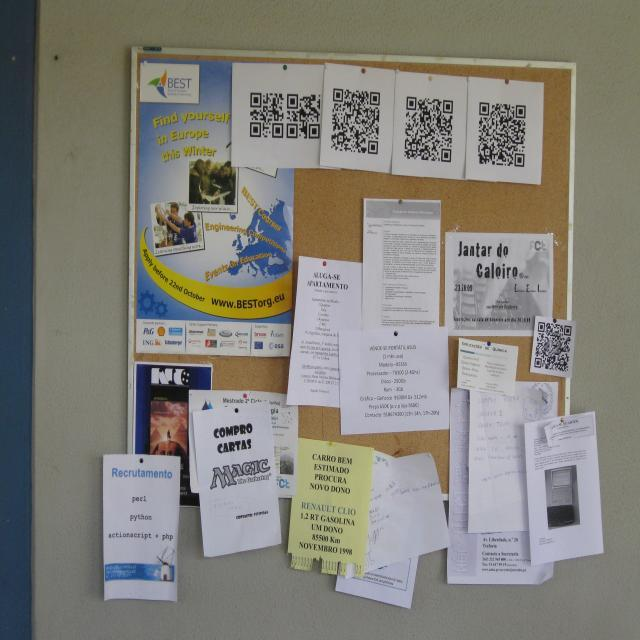qr-code: (404, 96, 453, 162), (331, 88, 380, 154), (478, 102, 526, 167), (534, 322, 572, 372), (250, 92, 284, 138), (286, 94, 321, 138)
